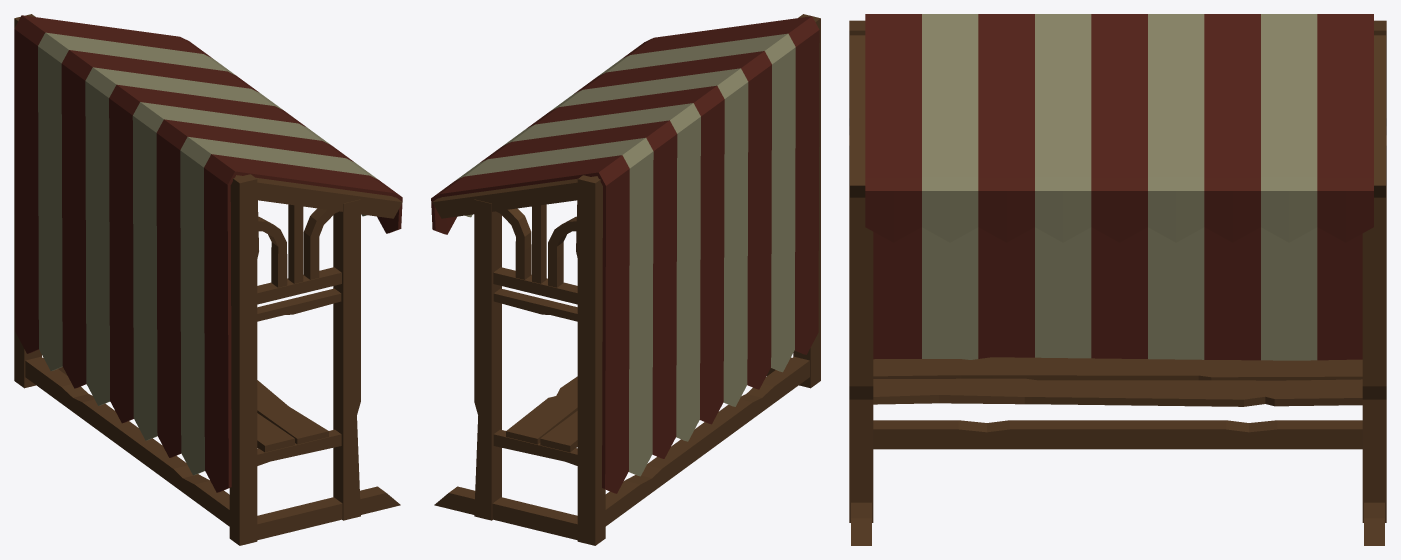
The model's file is market_stand_b.fbx.
3 renders of one model, left to right at view 1: azimuth 30°, elevation 25°; view 2: azimuth 150°, elevation 25°; view 3: azimuth 270°, elevation 25°, orthographic. The views are drawn at different scales.
Visible parts, largest first — view 1: MarketStand_2; view 2: MarketStand_2; view 3: MarketStand_2.
Boxes of the visible parts, x1,y1,x2,y2 form: MarketStand_2: [14, 14, 402, 545]; MarketStand_2: [431, 14, 820, 545]; MarketStand_2: [849, 14, 1386, 545].
Bounding box in the file's own units: 0.4963 × 1 × 1.11.
